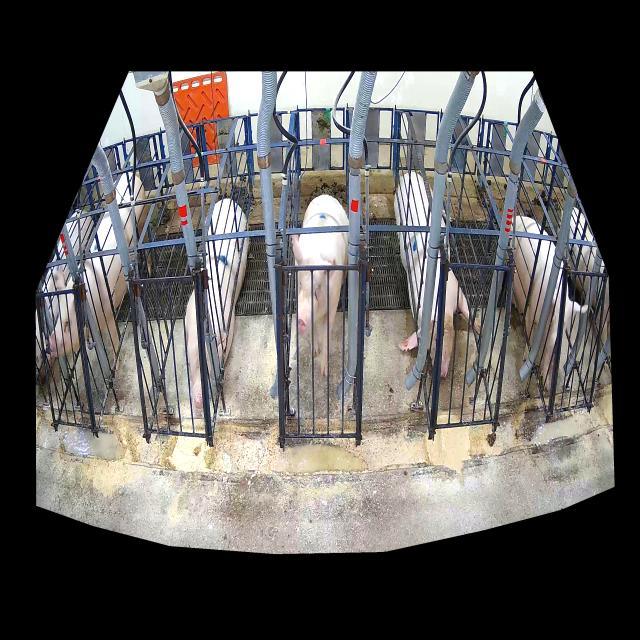pig: (49, 172, 152, 370), (394, 172, 469, 379), (185, 198, 249, 409), (512, 216, 580, 391), (291, 195, 349, 378)
